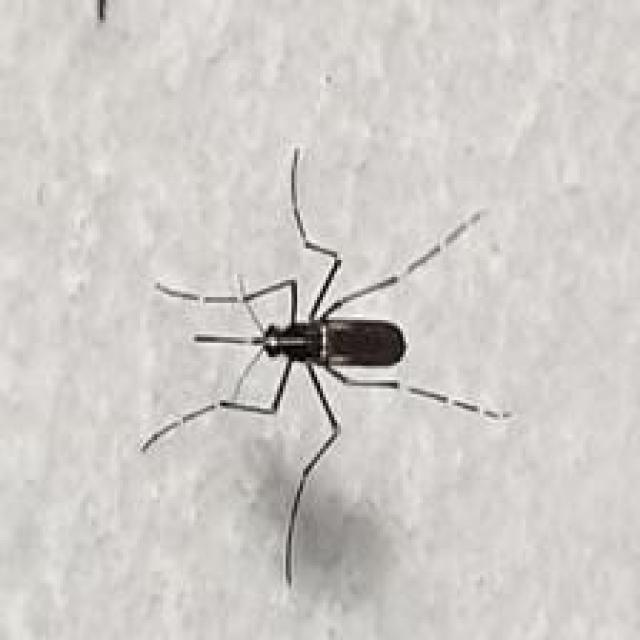Aedes albopictus: (138, 143, 516, 588)
